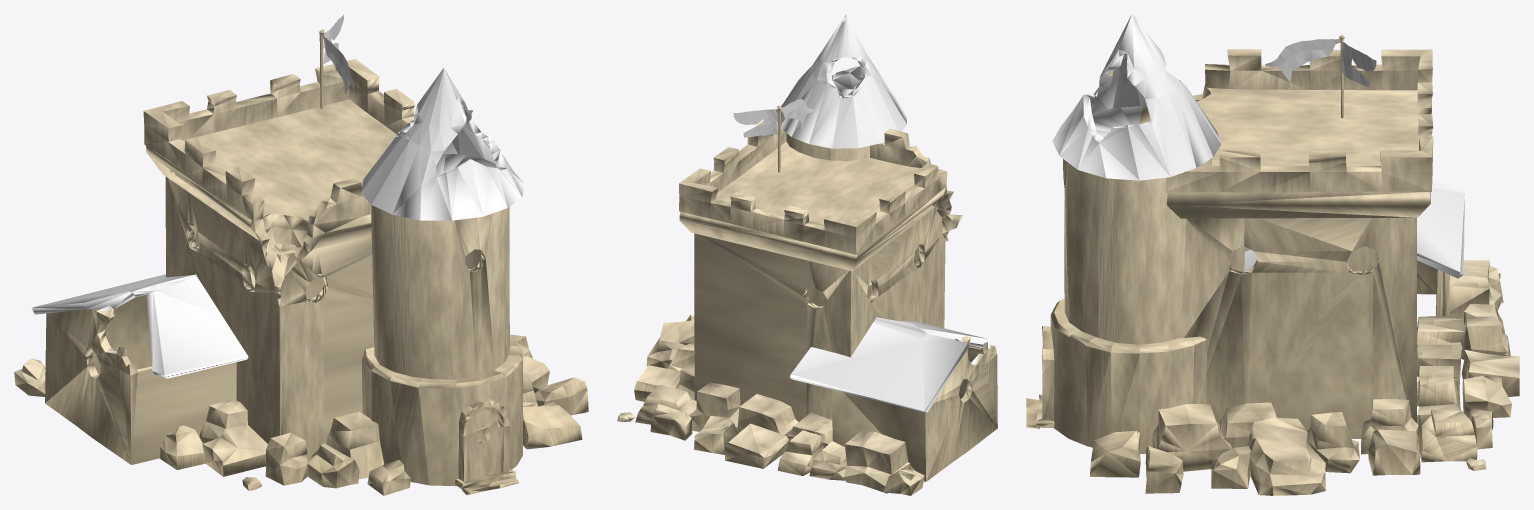
3 renders of one model, left to right at view 1: azimuth 30°, elevation 25°; view 2: azimuth 150°, elevation 25°; view 3: azimuth 270°, elevation 25°, orthographic. The views are drawn at different scales.
Parts seen in each view (by area): view 1: castle_d2.6; view 2: castle_d2.6; view 3: castle_d2.6.
Boxes of the visible parts, box(x1,y1,x2,y2) form: castle_d2.6: box(14, 14, 588, 495); castle_d2.6: box(617, 14, 997, 495); castle_d2.6: box(1026, 14, 1519, 495).
Bounding box in the file's own units: 2.9 × 2.63 × 2.9.
2 materials, 1 textured.
